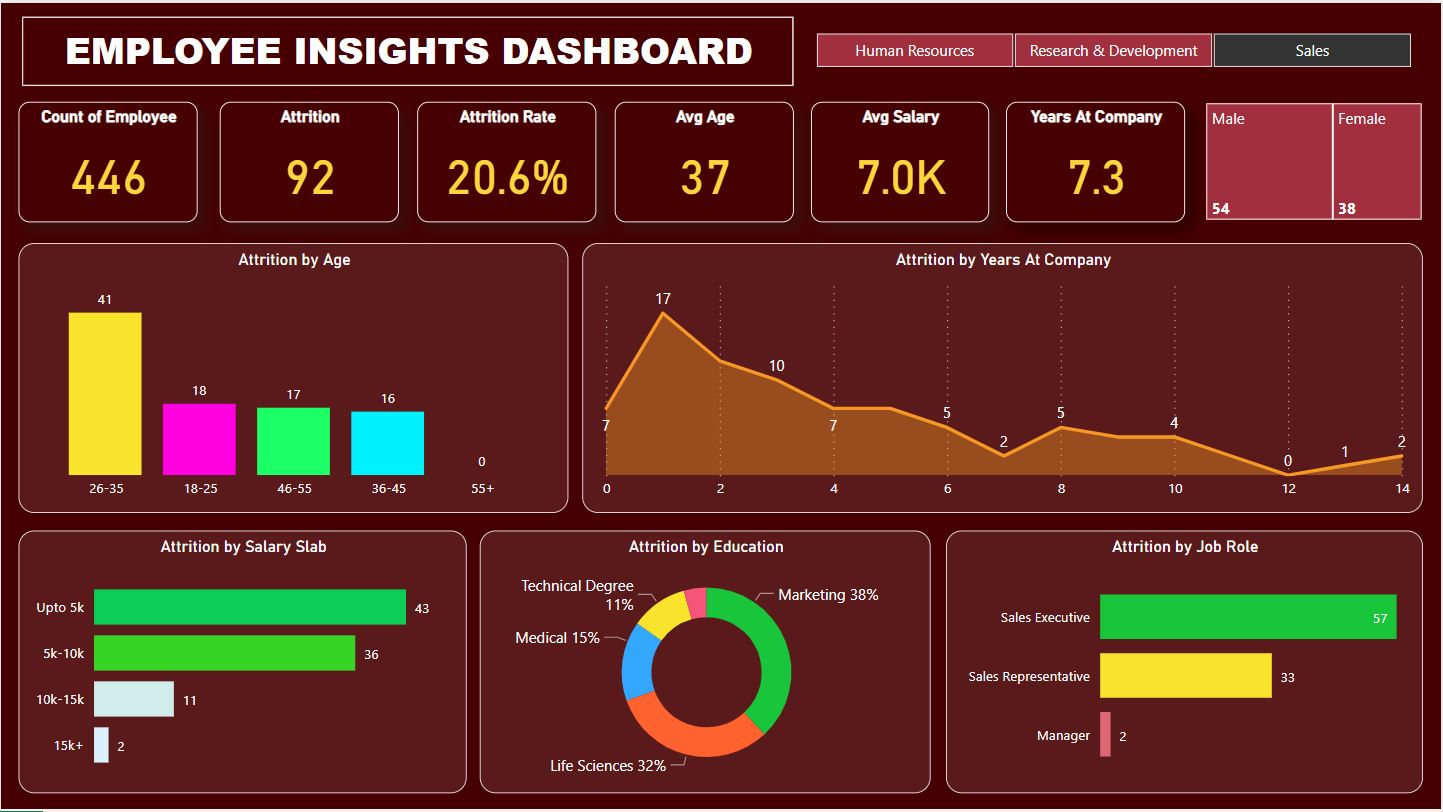

This screenshot's page, from the dashboard's own definition file:
{"tool":"powerbi","page":{"name":"Page 1","canvas":[1280,720],"ordinal":0},"visuals":[{"type":"card","title":"Count of Employee","fields":{"Values":["CountNonNull(HR_Analytics.EmpID)"]},"box":[15.5,88.1,159.5,107.1],"z":0},{"type":"card","title":"Attrition","fields":{"Values":["Sum(HR_Analytics.AttritionCount)"]},"box":[194,88.1,159.5,107.1],"z":1000},{"type":"card","title":"Attrition Rate","fields":{"Values":["HR_Analytics.AttritionRate"]},"box":[370.1,88.1,159.5,107.1],"z":2000},{"type":"card","title":"Avg Age","fields":{"Values":["Avg(HR_Analytics.Age)"]},"box":[545.1,88.1,159.5,107.1],"z":3000},{"type":"card","title":"Avg Salary","fields":{"Values":["Avg(HR_Analytics.MonthlyIncome)"]},"box":[720,88.1,158.3,107.1],"z":4000},{"type":"card","title":"Years At Company","fields":{"Values":["Avg(HR_Analytics.YearsAtCompany)"]},"box":[893.8,88.1,159.5,107.1],"z":5000},{"type":"donutChart","title":"Attrition by Education","fields":{"Category":["HR_Analytics.EducationField"],"Y":["Sum(HR_Analytics.AttritionCount)"]},"box":[426,468.9,401.1,233.3],"z":6000},{"type":"clusteredColumnChart","title":"Attrition by Age","fields":{"Category":["HR_Analytics.AgeGroup"],"Y":["Sum(HR_Analytics.AttritionCount)"]},"box":[15.5,213,489.1,240.4],"z":7000},{"type":"barChart","title":"Attrition by Salary Slab","fields":{"Category":["HR_Analytics.SalarySlab"],"Y":["Sum(HR_Analytics.AttritionCount)"]},"box":[15.5,468.9,398.7,233.3],"z":8000},{"type":"barChart","title":"Attrition by Job Role","fields":{"Y":["Sum(HR_Analytics.AttritionCount)"],"Category":["HR_Analytics.JobRole"]},"box":[840.2,468.9,423.7,233.3],"z":9000},{"type":"areaChart","title":"Attrition by Years At Company","fields":{"Y":["Sum(HR_Analytics.AttritionCount)"],"Category":["HR_Analytics.YearsAtCompany"]},"box":[516.5,213,747.4,240.4],"z":10000},{"type":"treemap","title":"Attrition by Gender","fields":{"Group":["HR_Analytics.Gender"],"Values":["Sum(HR_Analytics.AttritionCount)"]},"box":[1066.3,84.5,201.1,113.1],"z":11000},{"type":"slicer","fields":{"Values":["HR_Analytics.Department"]},"box":[698.6,20.2,578.4,44],"z":12000},{"type":"textbox","box":[19,11.9,685.5,61.9],"z":13000}]}

Visuals, with their boxes in screenshot pixels (x1, y1, x2, y2), scaled from the page's 1280x720 canvas onto the 1443x812 screenshot:
"Count of Employee" card: box=[17, 99, 197, 220]
"Attrition" card: box=[219, 99, 399, 220]
"Attrition Rate" card: box=[417, 99, 597, 220]
"Avg Age" card: box=[615, 99, 794, 220]
"Avg Salary" card: box=[812, 99, 990, 220]
"Years At Company" card: box=[1008, 99, 1187, 220]
"Attrition by Education" donutChart: box=[480, 529, 932, 792]
"Attrition by Age" clusteredColumnChart: box=[17, 240, 569, 511]
"Attrition by Salary Slab" barChart: box=[17, 529, 467, 792]
"Attrition by Job Role" barChart: box=[947, 529, 1425, 792]
"Attrition by Years At Company" areaChart: box=[582, 240, 1425, 511]
"Attrition by Gender" treemap: box=[1202, 95, 1429, 223]
slicer - HR_Analytics.Department: box=[788, 23, 1440, 72]
textbox: box=[21, 13, 794, 83]
